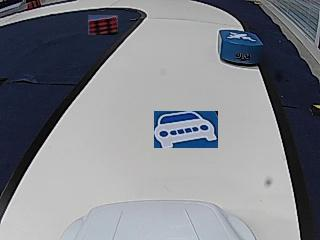prop: (219, 30, 262, 66)
